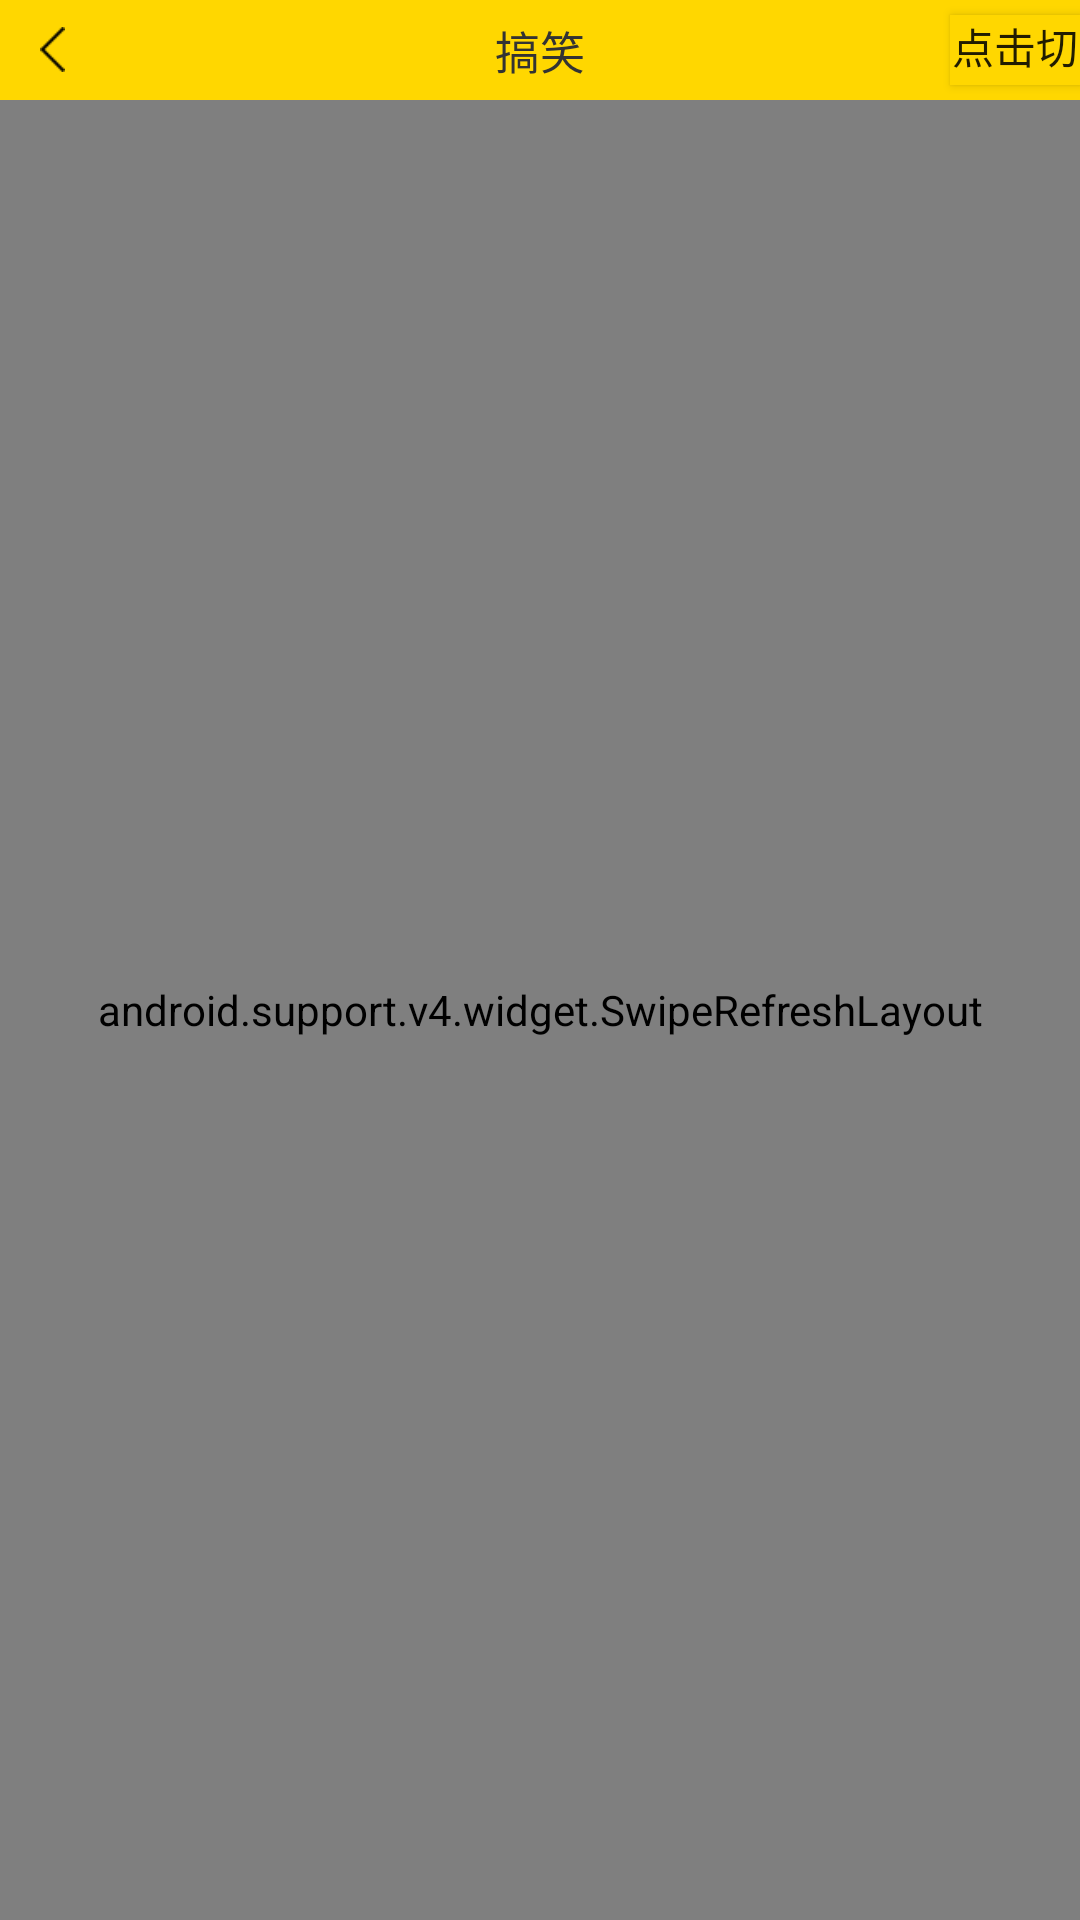

Named icons in this screenshot (1080*1920) and their bounding boxes, [x1, y1, x2, y2]:
top back: [40, 27, 65, 72]
